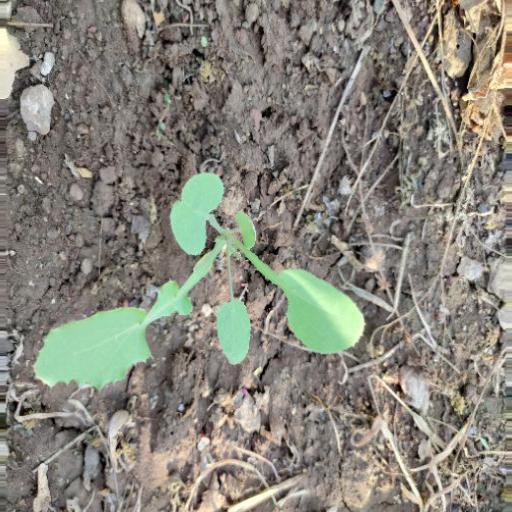weed: (28, 174, 380, 410)
